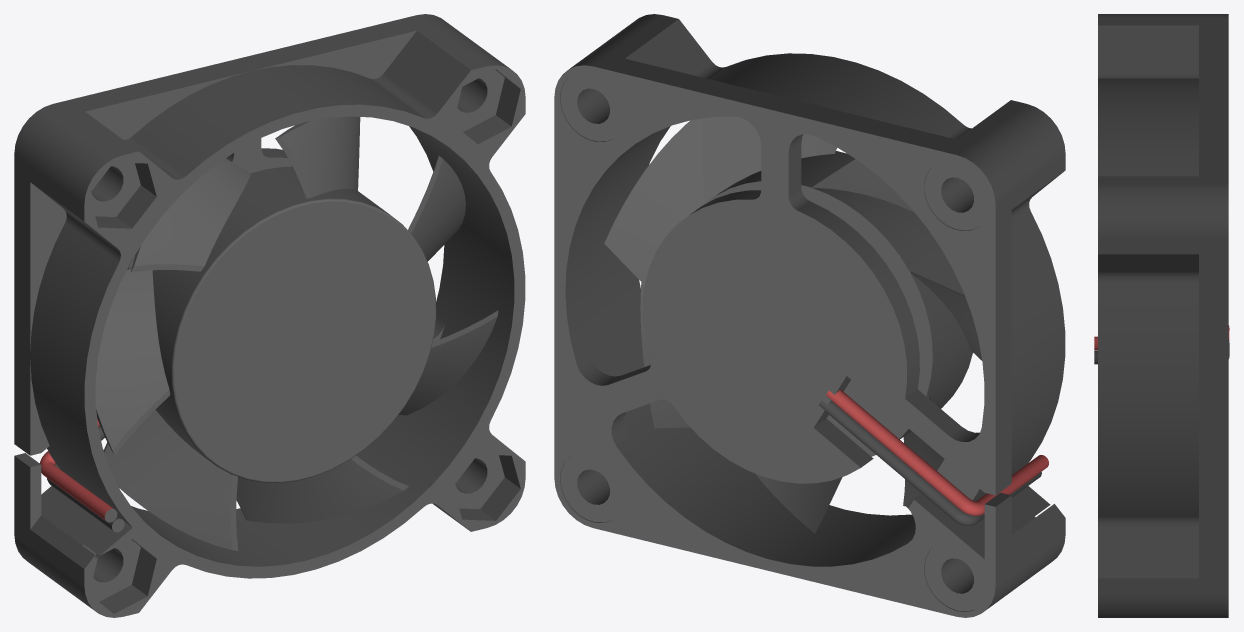
The picture shows the model from 3 angles, left to right: view 1: azimuth 30°, elevation 25°; view 2: azimuth 150°, elevation 25°; view 3: azimuth 270°, elevation 25°; orthographic projection. The views are drawn at different scales.
Parts seen in each view (by area): view 1: Extruder_BigCoolingFan_Case, Extruder_BigCoolingFan_Blade; view 2: Extruder_BigCoolingFan_Case, Extruder_BigCoolingFan_Blade; view 3: Extruder_BigCoolingFan_Case.
Boxes of the visible parts, box(x1,y1,x2,y2) form: Extruder_BigCoolingFan_Case: box(14, 14, 525, 617); Extruder_BigCoolingFan_Blade: box(95, 116, 498, 550); Extruder_BigCoolingFan_Case: box(554, 14, 1065, 617); Extruder_BigCoolingFan_Blade: box(604, 116, 982, 533); Extruder_BigCoolingFan_Case: box(1094, 14, 1229, 617).
Size of the model in its own units: 4 by 4 by 1.14.
